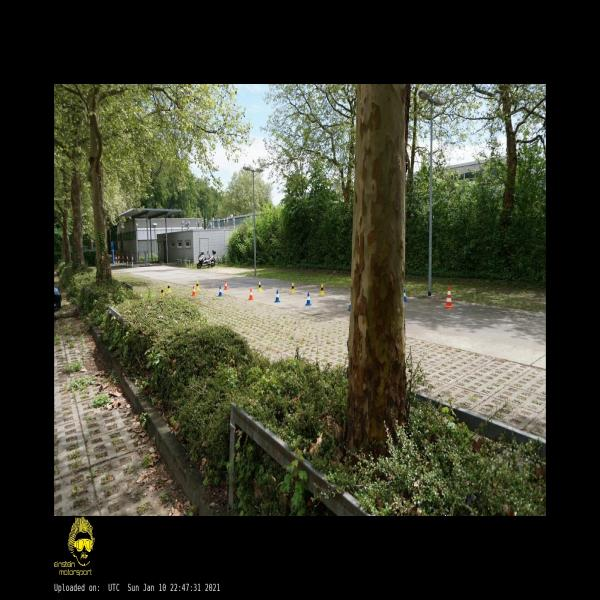blue_cone: (306, 292, 312, 306), (275, 290, 280, 302), (348, 298, 352, 311), (218, 286, 222, 296), (404, 288, 407, 301)
large_orange_cone: (444, 285, 453, 308)
orange_cone: (248, 289, 253, 300), (192, 285, 196, 296), (224, 280, 227, 290)
yellow_cone: (290, 282, 296, 293), (160, 286, 165, 295), (195, 281, 200, 290), (320, 284, 324, 295), (258, 282, 262, 292), (167, 283, 171, 292)
